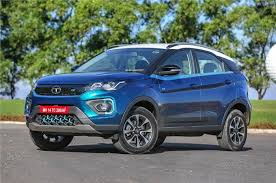Tata Nexon: (23, 43, 253, 161)
